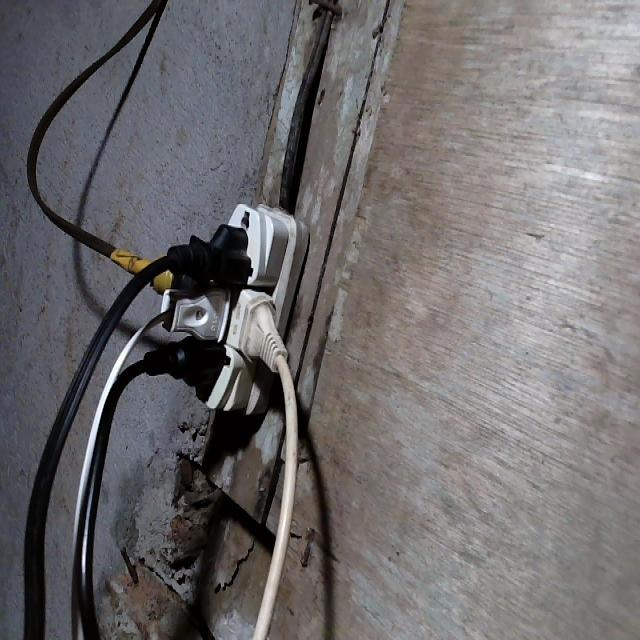-: (132, 198, 309, 414)
